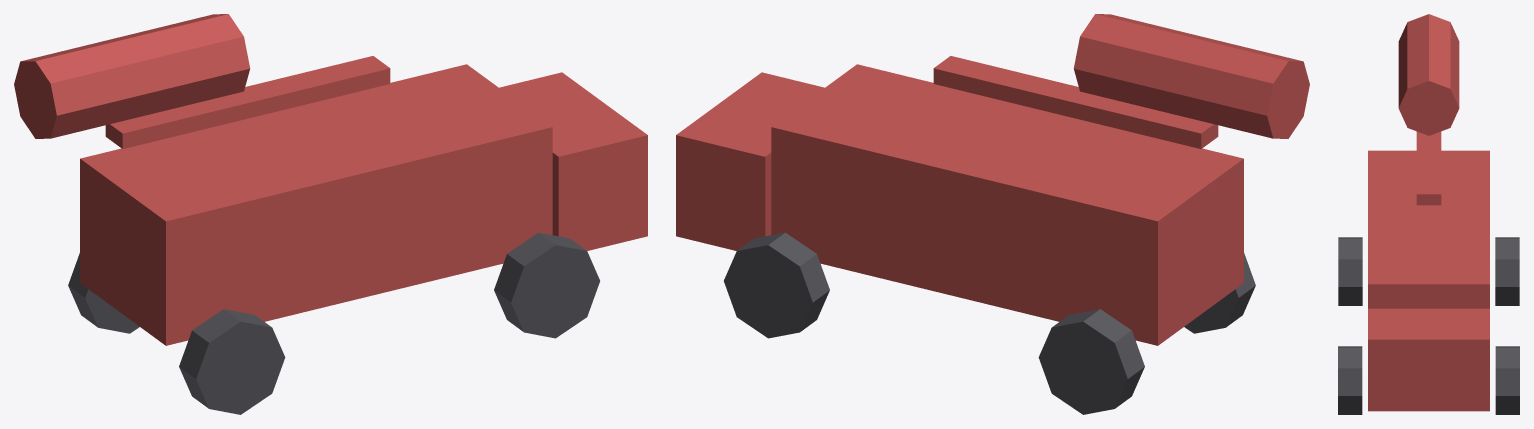
The picture shows the model from 3 angles, left to right: view 1: azimuth 30°, elevation 25°; view 2: azimuth 150°, elevation 25°; view 3: azimuth 270°, elevation 25°; orthographic projection. The views are drawn at different scales.
Parts seen in each view (by area): view 1: part0, part3, part1, part2, part5, part7, part6; view 2: part0, part3, part1, part2, part4, part6, part7; view 3: part0, part1, part3, part2, part4, part5, part6, part7.
Part boxes in pixels (<box>): part0: <box>80,64,552,345</box>; part3: <box>14,14,250,138</box>; part1: <box>499,72,647,250</box>; part2: <box>105,56,390,148</box>; part5: <box>494,232,599,338</box>; part7: <box>179,309,285,414</box>; part6: <box>68,253,139,333</box>; part0: <box>771,64,1243,345</box>; part3: <box>1073,14,1309,138</box>; part1: <box>676,72,824,250</box>; part2: <box>933,56,1218,148</box>; part4: <box>724,232,829,338</box>; part6: <box>1038,309,1144,414</box>; part7: <box>1184,253,1255,333</box>; part0: <box>1368,150,1489,308</box>; part1: <box>1368,308,1489,411</box>; part3: <box>1398,14,1459,135</box>; part2: <box>1416,131,1441,205</box>; part4: <box>1495,346,1519,414</box>; part5: <box>1338,346,1362,414</box>; part6: <box>1495,237,1519,305</box>; part7: <box>1338,237,1362,305</box>.
Bounding box in the file's own units: 7.66 × 4.39 × 2.99.
